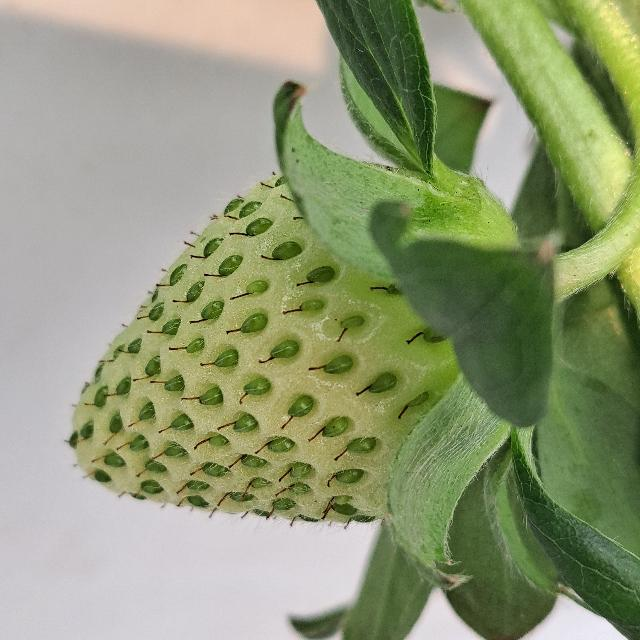Health_25: (71, 172, 458, 522)
